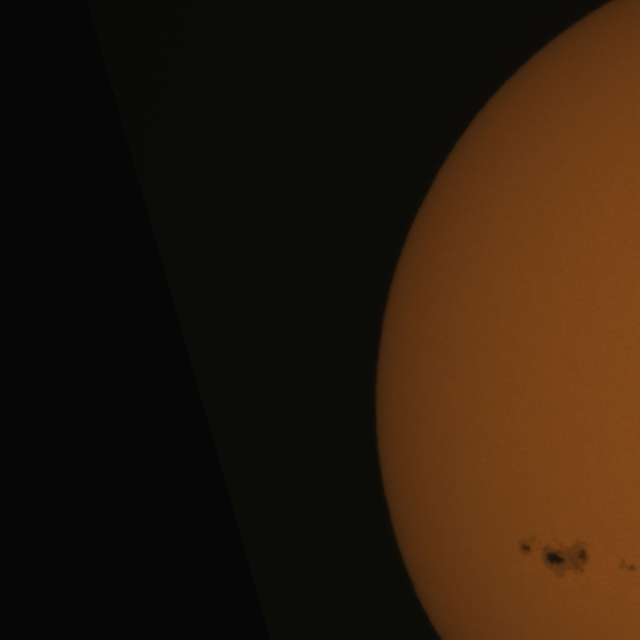sunspot: (533, 535, 593, 581), (616, 558, 638, 574)
